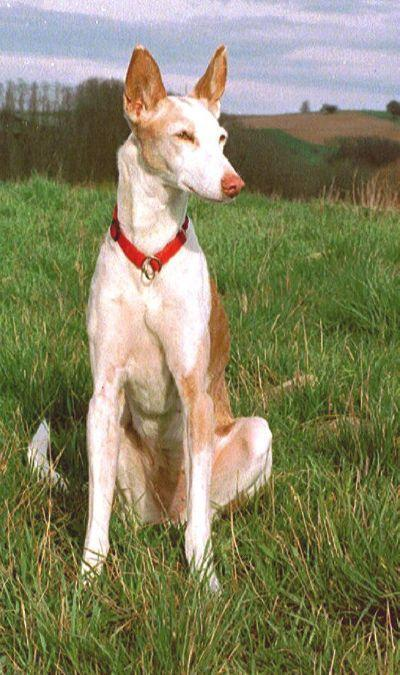Ibizan_hound: (21, 38, 275, 597)
